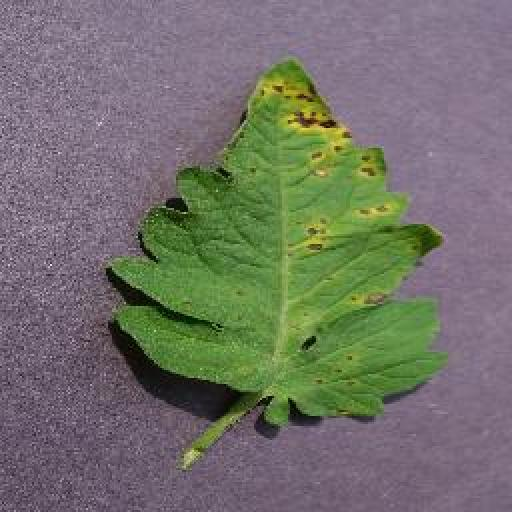disease_tomato: (104, 53, 442, 427)
